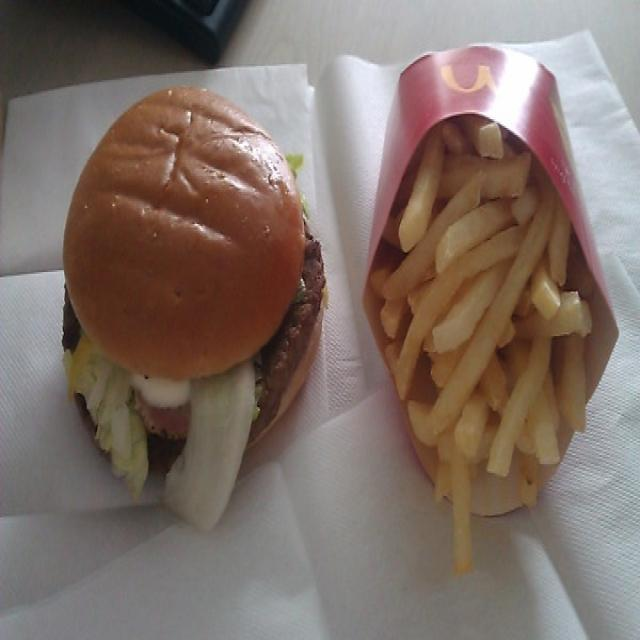French Fries: (371, 115, 604, 577)
Hamburger: (58, 76, 332, 520)
